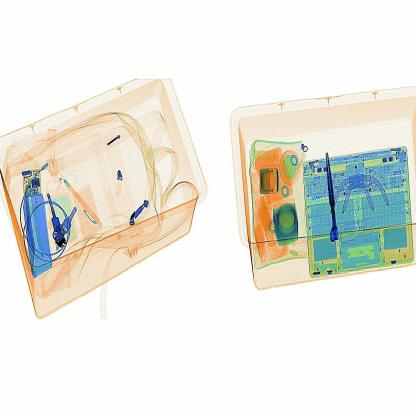gun: (321, 135, 347, 261)
